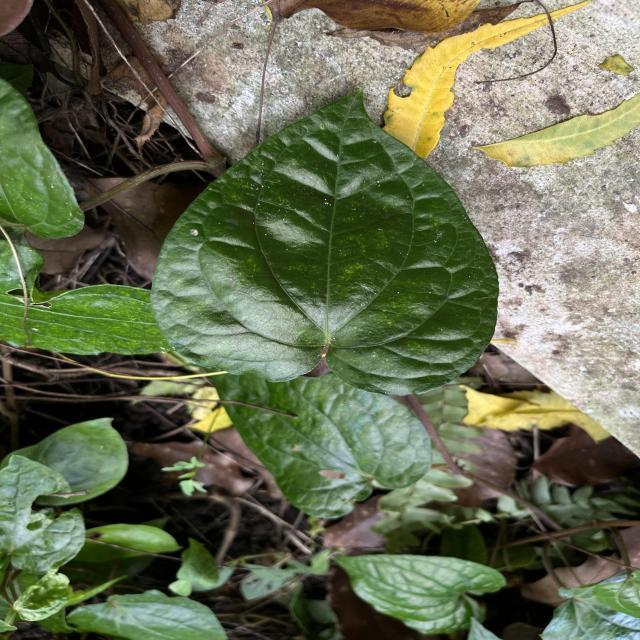Piper betle: (146, 83, 504, 400)
